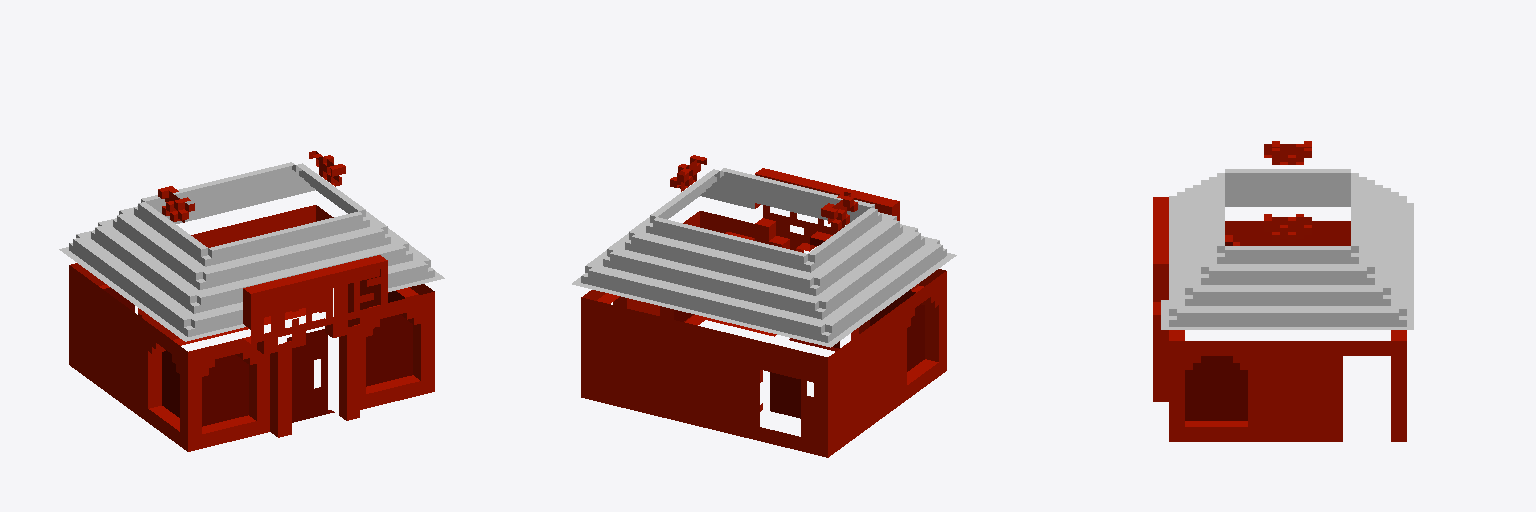
The picture shows the model from 3 angles: view 1: azimuth 30°, elevation 25°; view 2: azimuth 150°, elevation 25°; view 3: azimuth 270°, elevation 25°; orthographic projection.
Parts seen in each view (by area): view 1: tacos1; view 2: tacos1; view 3: tacos1.
Part boxes in pixels (bbox=[...]): tacos1: bbox=[59, 151, 444, 451]; tacos1: bbox=[572, 155, 956, 457]; tacos1: bbox=[1153, 141, 1413, 441].
Size of the model in its own units: 40 by 35 by 38.
1 materials, 1 textured.